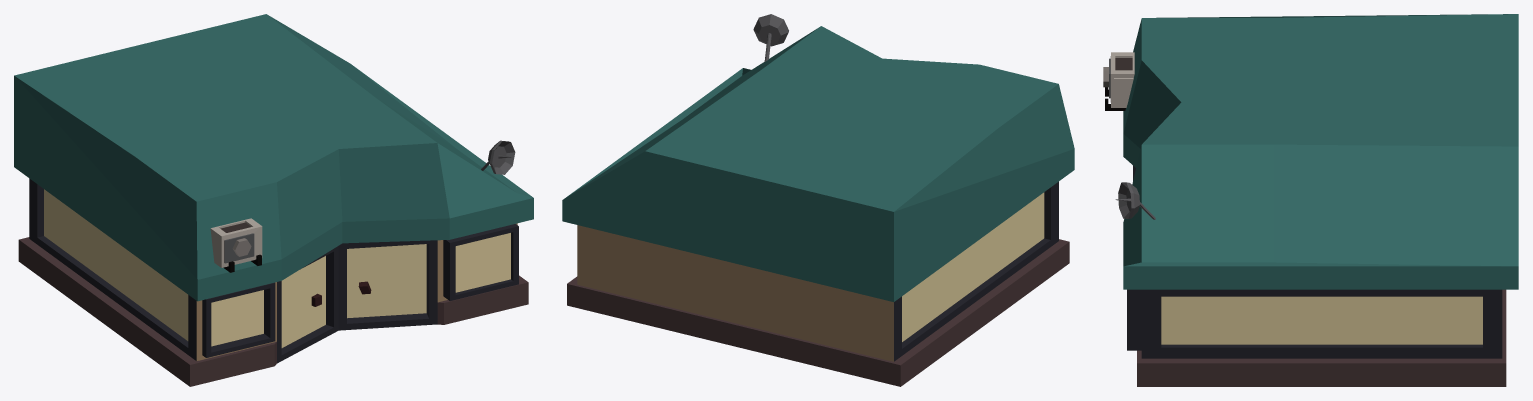
Rendered from StoreA.fbx.
3 renders of one model, left to right at view 1: azimuth 30°, elevation 25°; view 2: azimuth 150°, elevation 25°; view 3: azimuth 270°, elevation 25°, orthographic. The views are drawn at different scales.
Parts seen in each view (by area): view 1: Cube.331; view 2: Cube.331; view 3: Cube.331.
Boxes of the visible parts, <box> form: Cube.331: <box>14,14,533,386</box>; Cube.331: <box>562,14,1074,386</box>; Cube.331: <box>1103,14,1518,386</box>.
Size of the model in its own units: 4.88 by 2.5 by 4.82.
